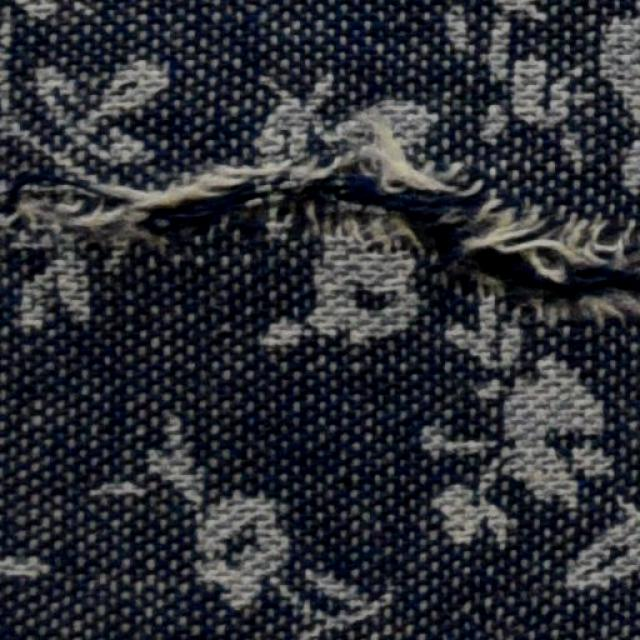Snag: (0, 129, 639, 334)
